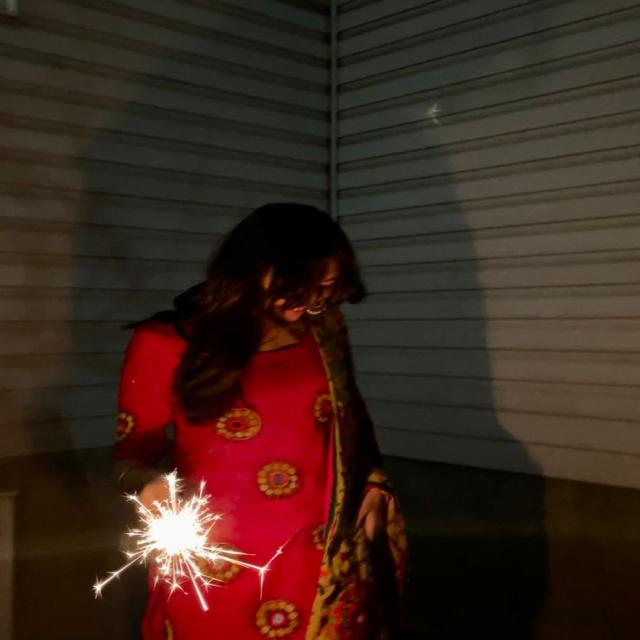fire: (146, 509, 209, 556)
